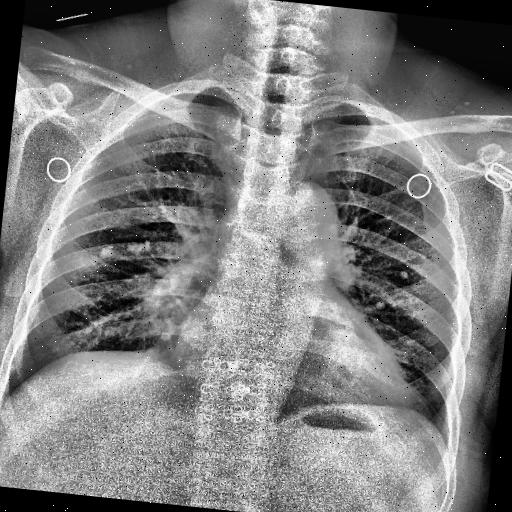0- Aortic enlargement: (269, 176, 344, 276), (269, 176, 341, 260), (270, 178, 341, 259)
3- Cardiomegaly: (172, 306, 412, 407)
7- Lung Opacity: (125, 238, 153, 255)
8- Nodule-Mass: (98, 245, 116, 260), (398, 268, 410, 280), (100, 248, 114, 258)
